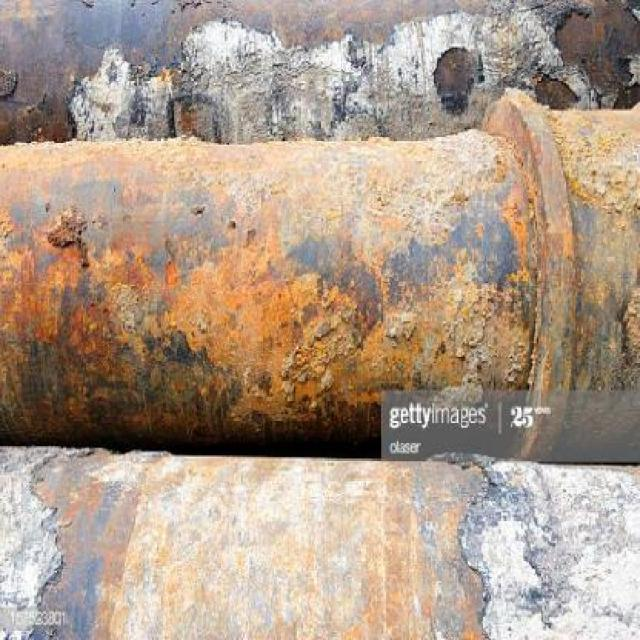corrosion: (3, 85, 640, 458)
